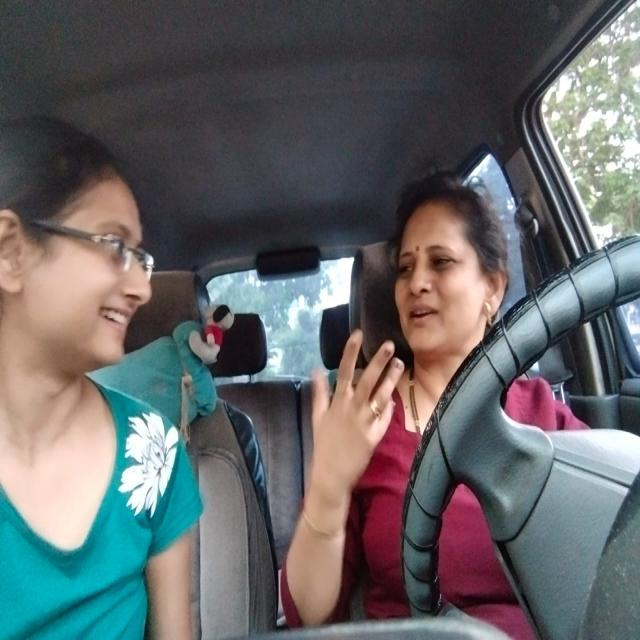LeftRight: (390, 173, 514, 380)
person: (2, 115, 162, 397)
talking: (98, 293, 136, 340), (406, 300, 445, 330)
